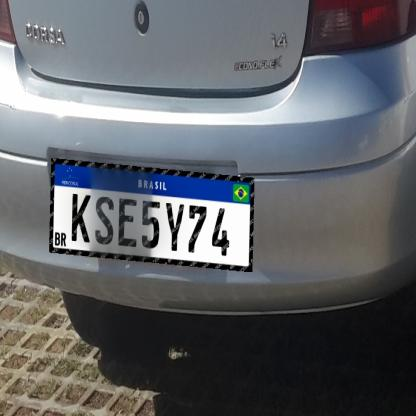PlacaM: (49, 158, 254, 272)
